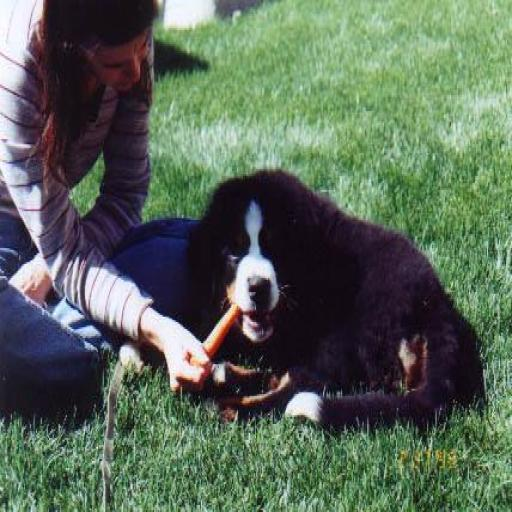dog_face: (205, 175, 306, 341)
